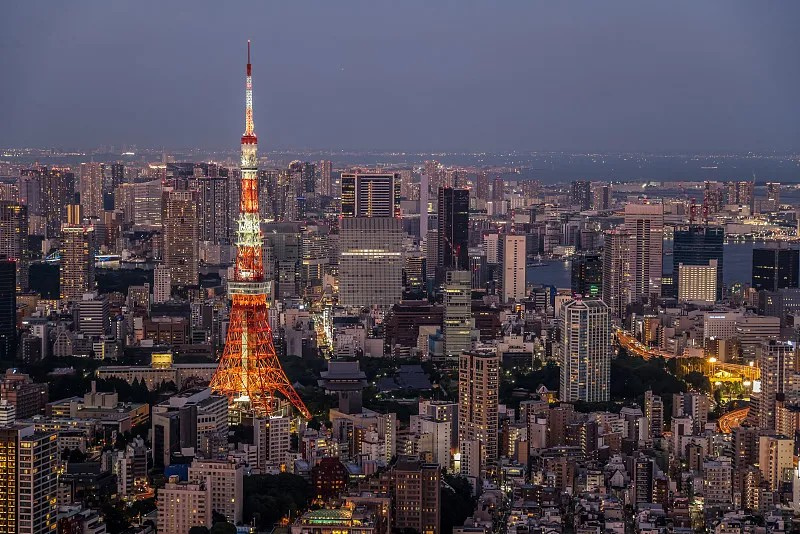Tokyo: (207, 38, 313, 421)
